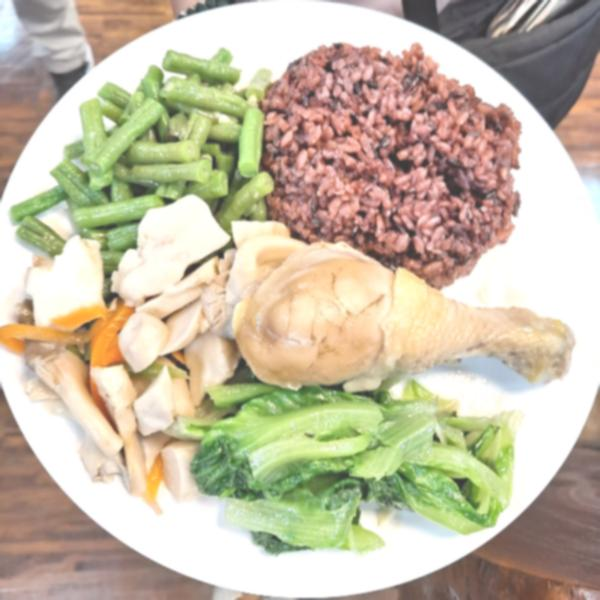plate: (0, 1, 592, 600)
purple rice: (256, 33, 526, 285)
side dish: (12, 204, 252, 484), (186, 369, 524, 544), (17, 42, 266, 250)
small herbal chicken leg: (240, 236, 577, 404)
